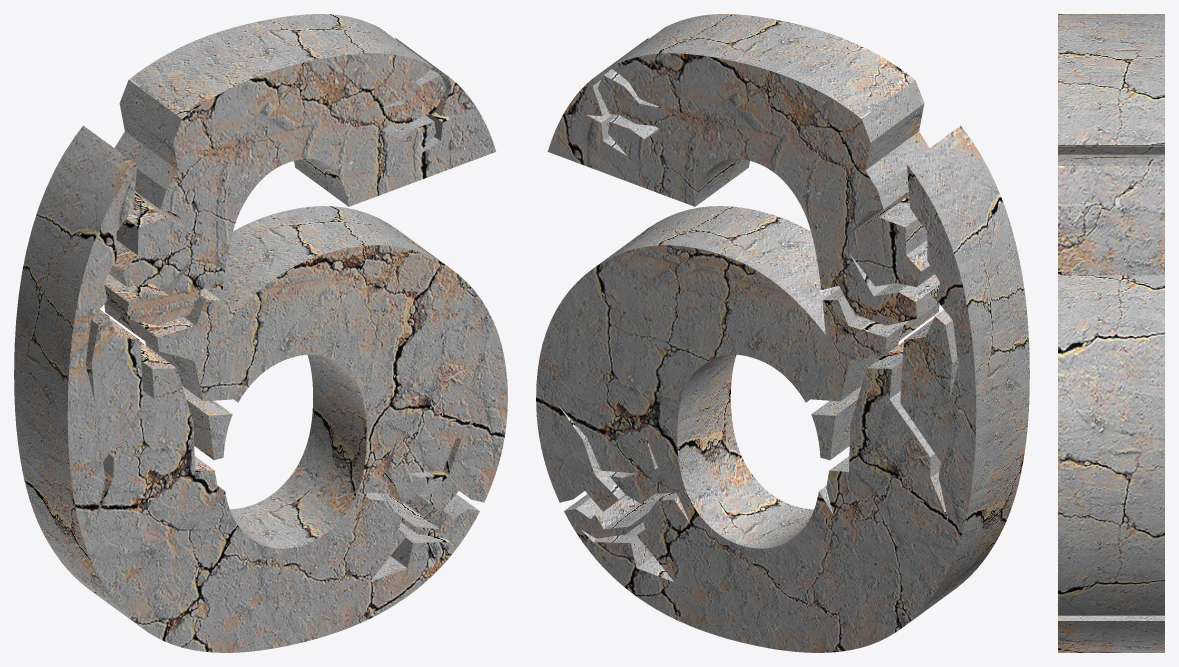
3 views of the same model, side by side, from view 1: azimuth 30°, elevation 25°; view 2: azimuth 150°, elevation 25°; view 3: azimuth 270°, elevation 25° (orthographic).
Parts seen in each view (by area): view 1: 6; view 2: 6; view 3: 6.
Boxes of the visible parts, x1,y1,x2,y2 form: 6: (14,14,507,652); 6: (536,14,1029,652); 6: (1058,14,1164,652).
Size of the model in its own units: 71.06 by 89.42 by 15.
1 material, 1 textured.
